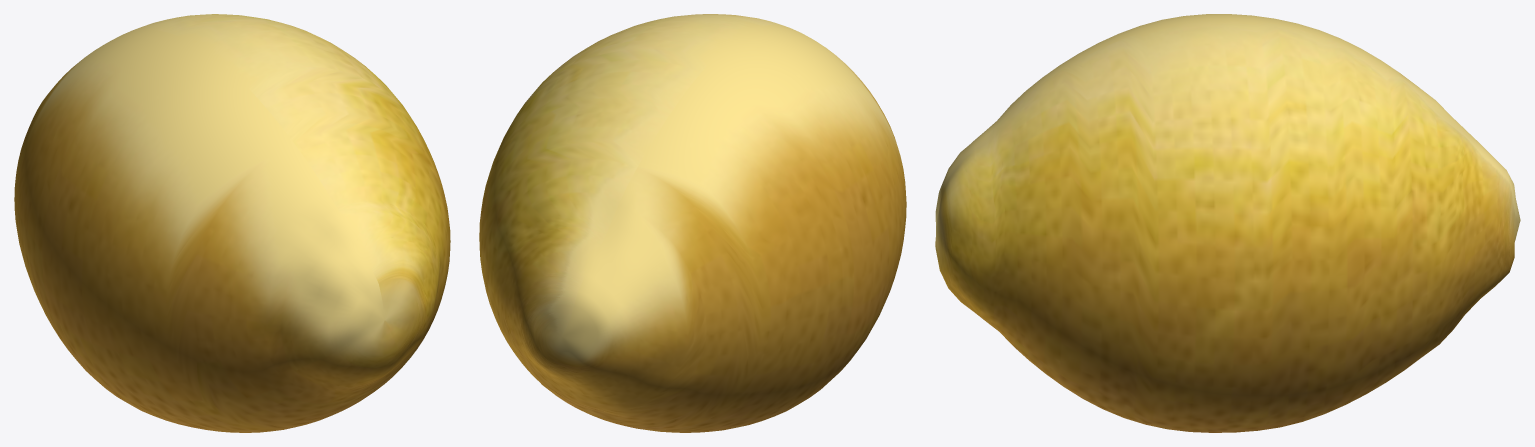
The model's file is Lemon Whole.obj.
The picture shows the model from 3 angles, left to right: view 1: azimuth 30°, elevation 25°; view 2: azimuth 150°, elevation 25°; view 3: azimuth 270°, elevation 25°; orthographic projection. The views are drawn at different scales.
Visible parts, largest first — view 1: Lemon_Whole; view 2: Lemon_Whole; view 3: Lemon_Whole.
Boxes of the visible parts, box(x1,y1,x2,y2) form: Lemon_Whole: box(14, 14, 450, 432); Lemon_Whole: box(479, 14, 906, 432); Lemon_Whole: box(935, 14, 1520, 432).
Size of the model in its own units: 36.09 by 36.4 by 50.29.
1 material, 1 textured.
